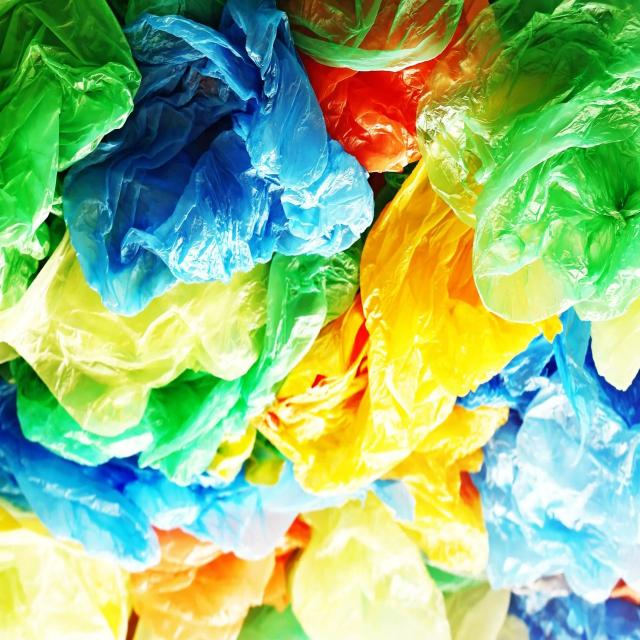Single-layer Plastic: (255, 163, 540, 574), (64, 0, 372, 315), (10, 251, 359, 484), (416, 0, 640, 322), (0, 382, 346, 572), (0, 232, 269, 435), (458, 309, 640, 602), (0, 0, 141, 308), (279, 0, 486, 172), (291, 493, 450, 639), (130, 531, 275, 639)
